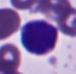L: (20, 18, 59, 56)
